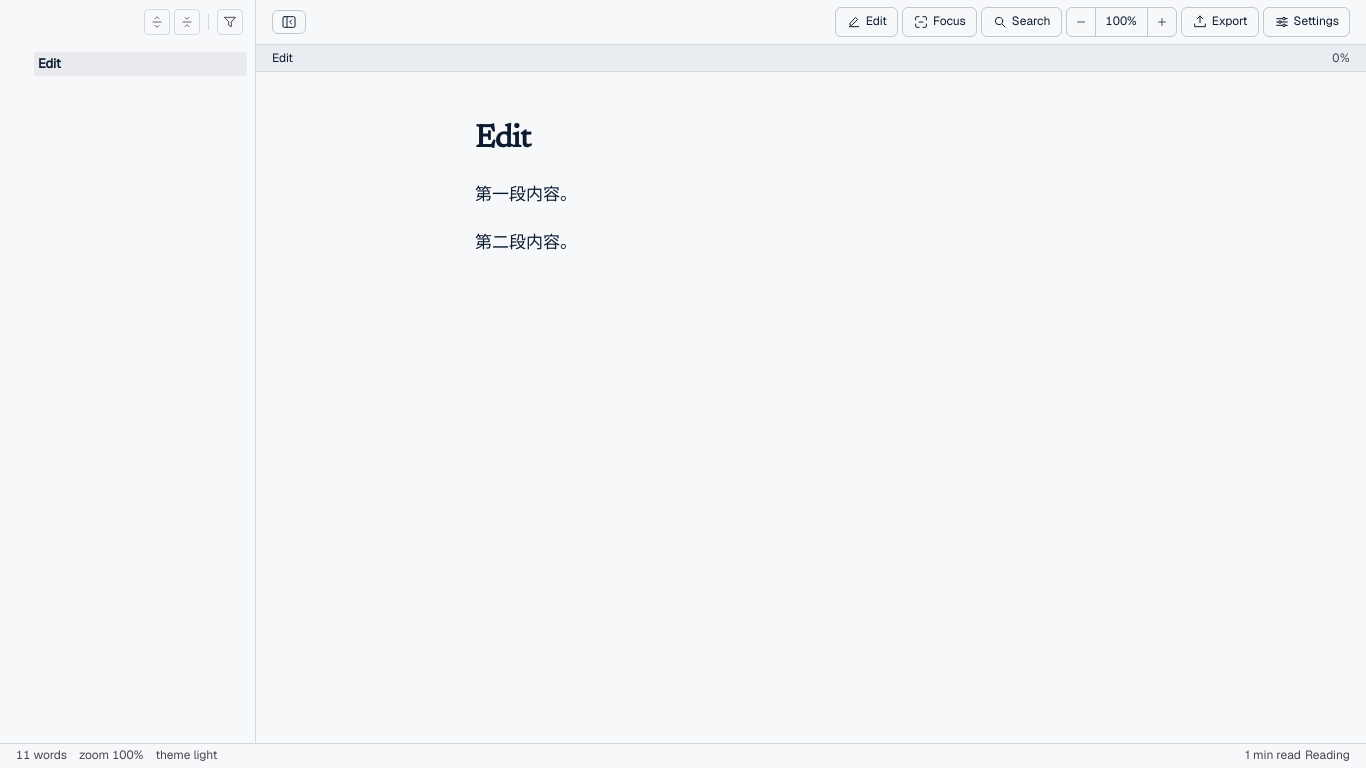
Test case: 编辑手册入口（§7.5） › 点 Help 只开弹层：一条消息都不发，开关状态不被碰
Click the button with aria-label "Edit mode" at [866, 22], box [835,7,898,37]
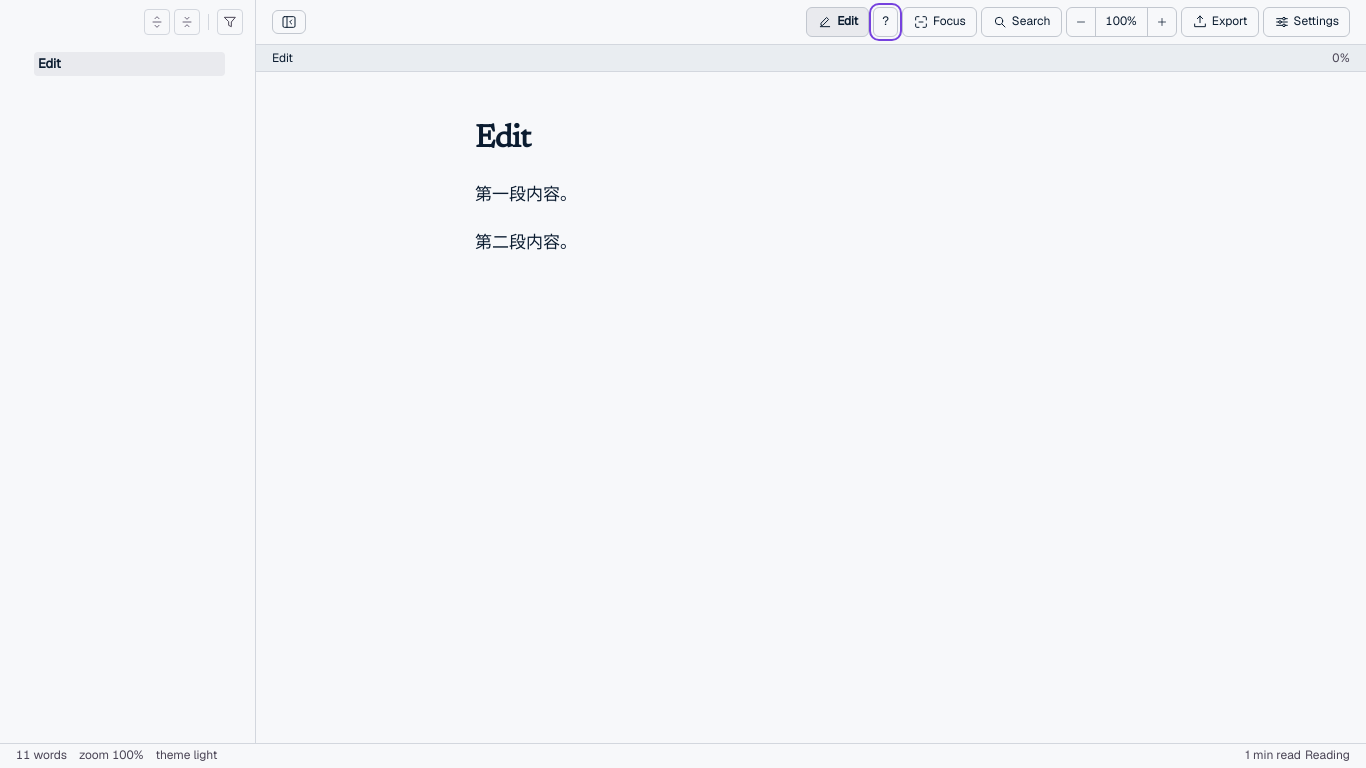
Click the button named "Editing guide" at [886, 22], box [873,7,898,37]
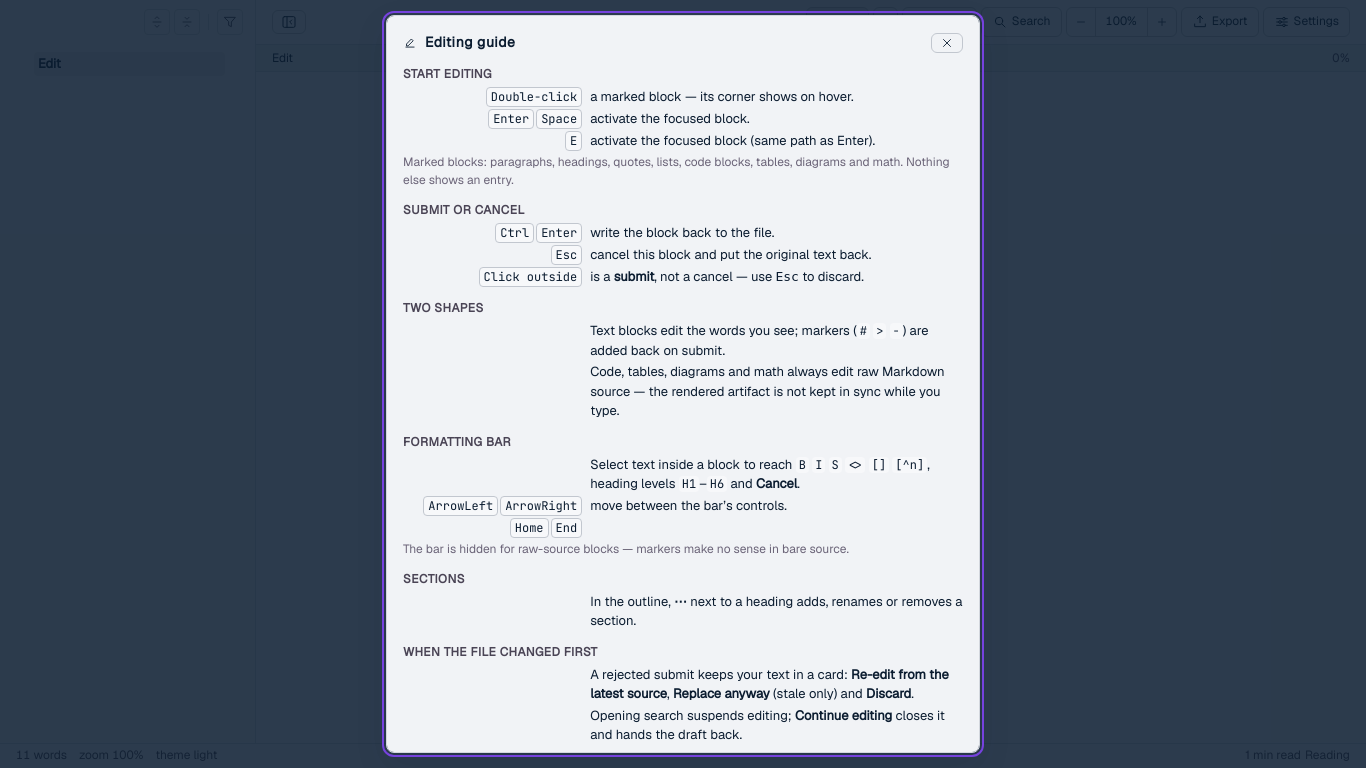
Check: the button named "Editing guide" is expanded, box [873,7,898,37]
